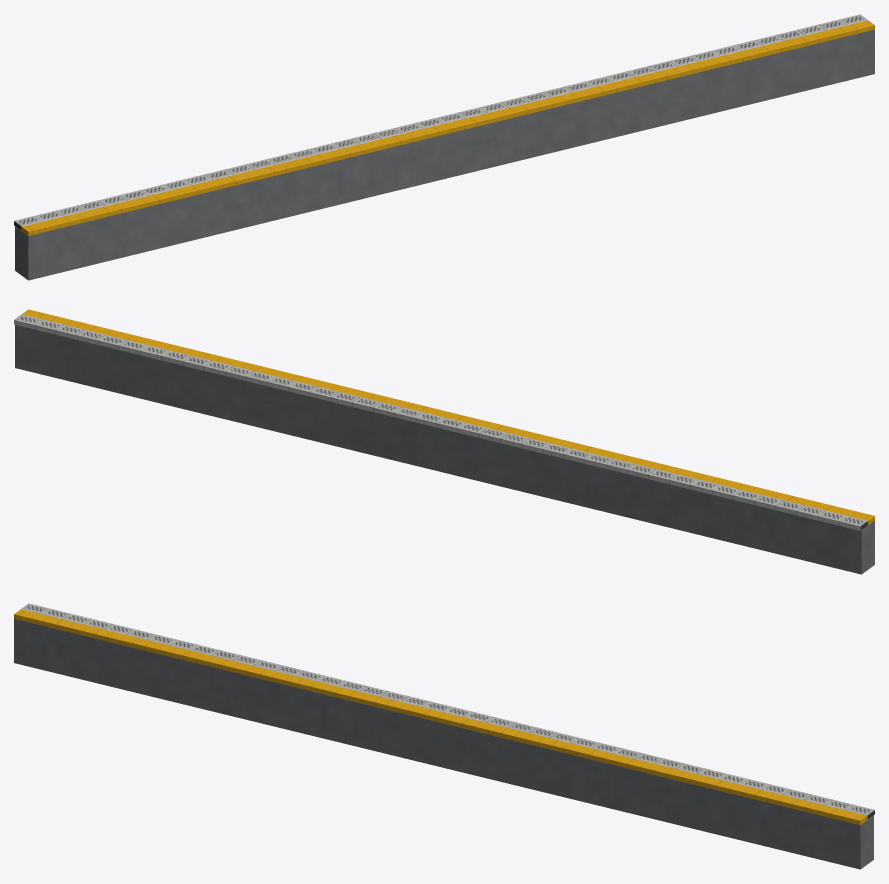
Rendered from platform_edge.fbx.
3 views of the same model, one above another, from view 1: azimuth 30°, elevation 25°; view 2: azimuth 150°, elevation 25°; view 3: azimuth 330°, elevation 25° (orthographic).
Visible parts, largest first — view 1: platform_edge; view 2: platform_edge; view 3: platform_edge.
Part boxes in pixels (x1,y1,x2,y2): platform_edge: [14, 14, 874, 280]; platform_edge: [14, 309, 874, 574]; platform_edge: [14, 603, 874, 869].
Size of the model in its own units: 20 by 0.6 by 1.11.
1 material, 1 textured.
